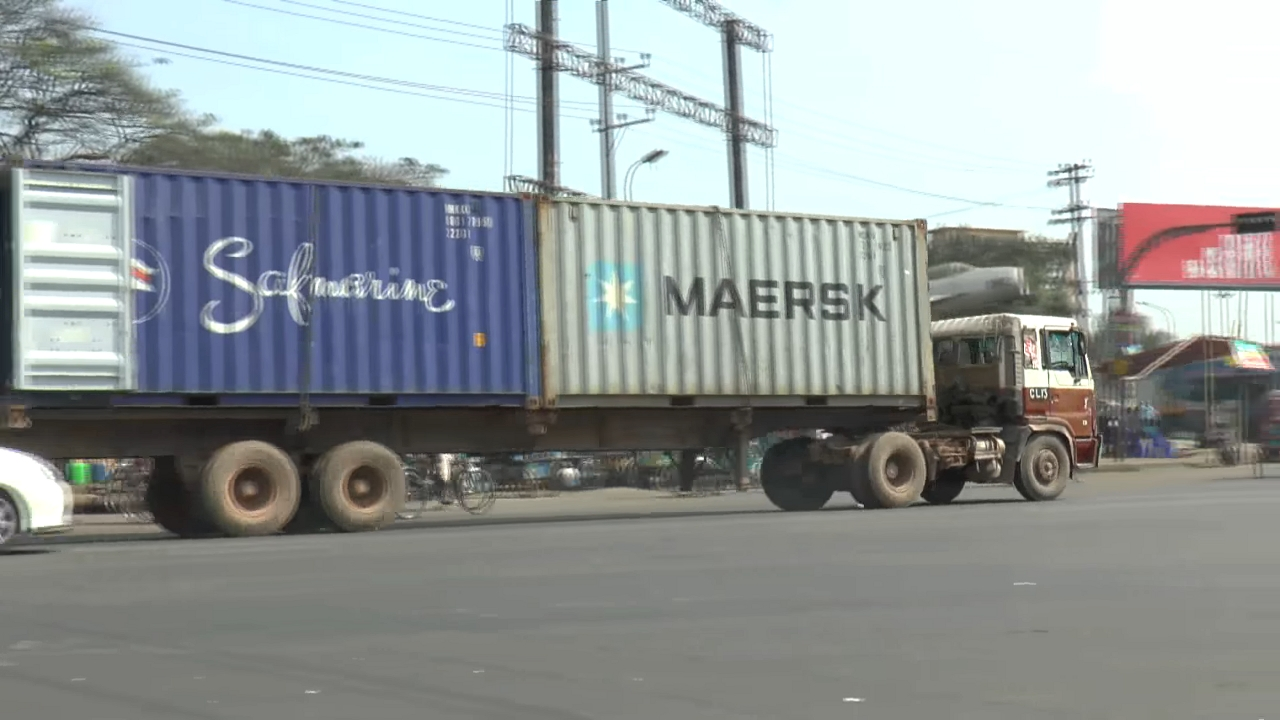truck: (529, 186, 1108, 510)
